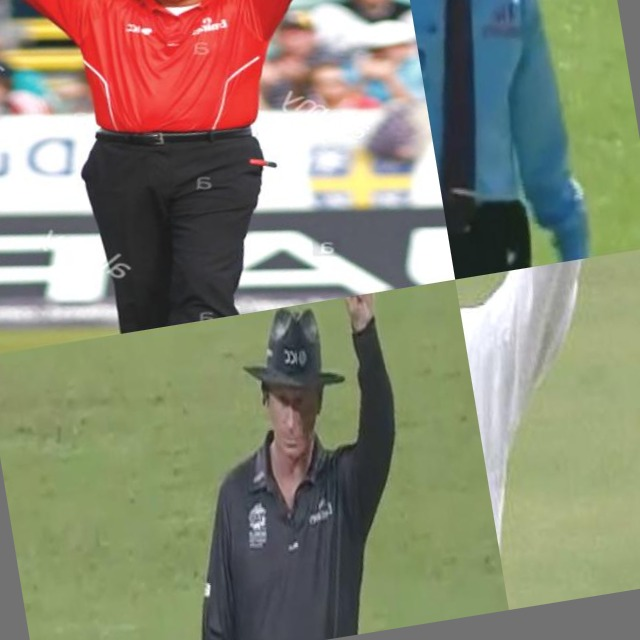No_Ball: (400, 0, 640, 280)
Out: (142, 287, 463, 640), (455, 247, 640, 610)
Six: (0, 0, 400, 356)
